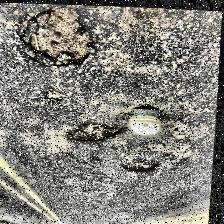pothole: (12, 1, 97, 71), (64, 118, 128, 144), (125, 156, 163, 174), (44, 88, 68, 102)
